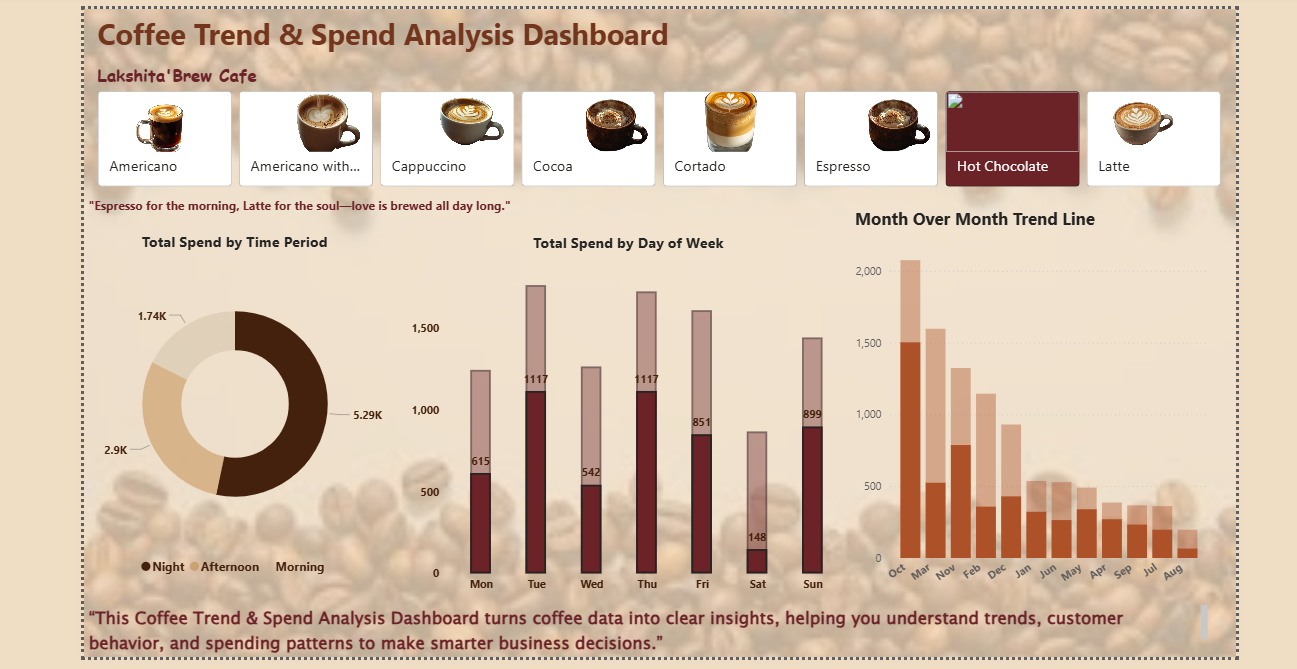

The page's visual inventory and layout, read from the dashboard file:
{"tool":"powerbi","page":{"name":"Page 1","canvas":[1280,720],"ordinal":0},"visuals":[{"type":"textbox","box":[9.7,0,650.9,59.9],"z":0},{"type":"clusteredColumnChart","title":"Total Spend  by Day of Week","fields":{"Category":["coffee_data.Weekday"],"Y":["Sum(coffee_data.money(Rs))"]},"box":[358.3,248.3,493.3,408.3],"z":1000},{"type":"donutChart","title":"Total Spend by Time Period","fields":{"Category":["coffee_data.Time_of_Day"],"Y":["Sum(coffee_data.money(Rs))"]},"box":[0,246.7,335,391.7],"z":2000},{"type":"advancedSlicerVisual","title":"Lakshita''Brew Cafe","fields":{"Values":["coffee_data.coffee_name"]},"box":[9.7,59.9,1258.1,142.5],"z":3000},{"type":"clusteredColumnChart","title":"Month Over Month Trend Line","fields":{"Category":["coffee_data.Month_name"],"Y":["Sum(coffee_data.money(Rs))"]},"box":[851.7,220,401.7,436.7],"z":4000},{"type":"textbox","box":[0,203.3,1280,31.7],"z":5000},{"type":"textbox","box":[0,656.7,1253.3,63.3],"z":5001}]}

Visuals, with their boxes on the page's 1280x720 design canvas (x1, y1, x2, y2). These are canvas units, not pixel positions in the 1297x669 screenshot, which may show the page scaled, cropped or inside an application window:
textbox: 10, 0, 661, 60
"Total Spend  by Day of Week" clusteredColumnChart: 358, 248, 852, 657
"Total Spend by Time Period" donutChart: 0, 247, 335, 638
"Lakshita''Brew Cafe" advancedSlicerVisual: 10, 60, 1268, 202
"Month Over Month Trend Line" clusteredColumnChart: 852, 220, 1253, 657
textbox: 0, 203, 1280, 235
textbox: 0, 657, 1253, 720
